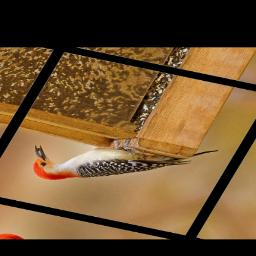Woodpecker: (17, 115, 220, 208)
